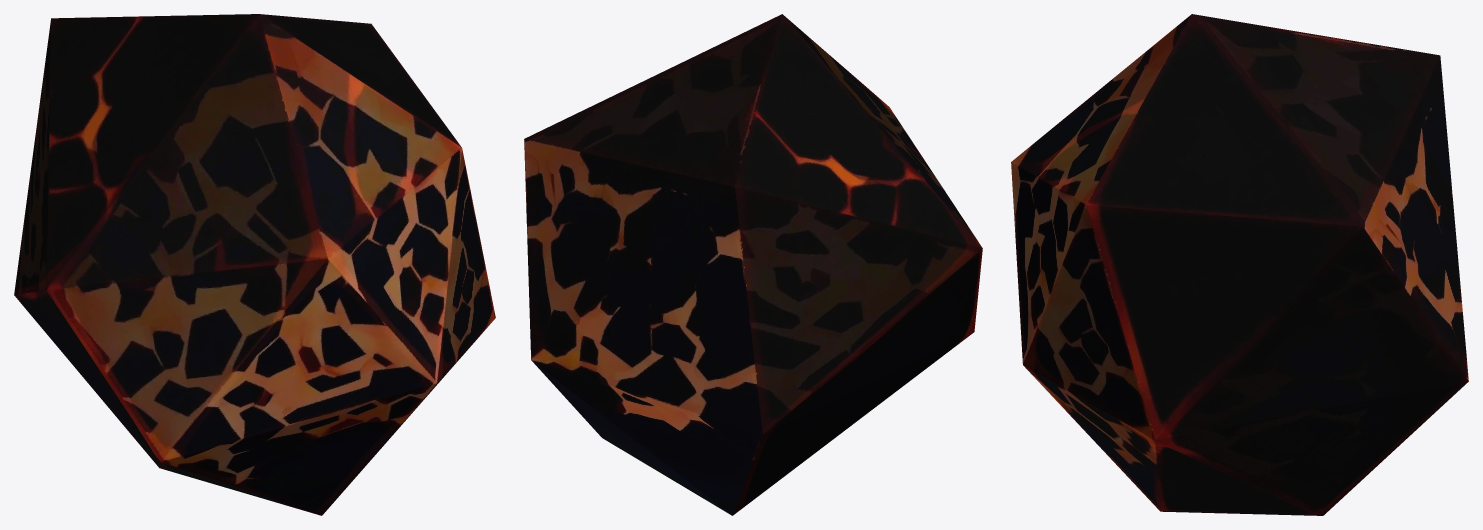
File: magma_crystal_4.glb
3 renders of one model, left to right at view 1: azimuth 30°, elevation 25°; view 2: azimuth 150°, elevation 25°; view 3: azimuth 270°, elevation 25°, orthographic. The views are drawn at different scales.
Size of the model in its own units: 1.77 by 1.95 by 1.69.
Materials: 1 (1 with a texture image).
